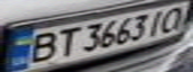3: (127, 11, 154, 42), (78, 20, 103, 52)
6: (115, 15, 139, 45), (100, 18, 121, 48)
B: (15, 29, 66, 64)
I: (145, 7, 172, 36)
O: (157, 3, 193, 33)
T: (45, 26, 81, 59)
